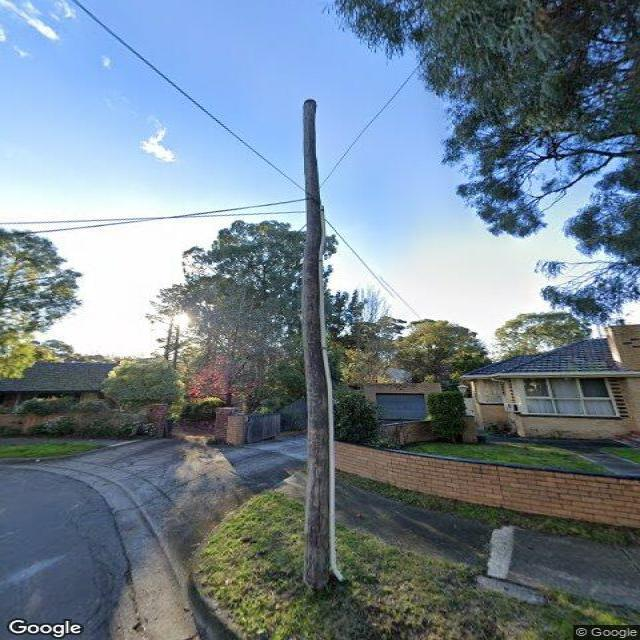timber-pole: (301, 99, 332, 593)
